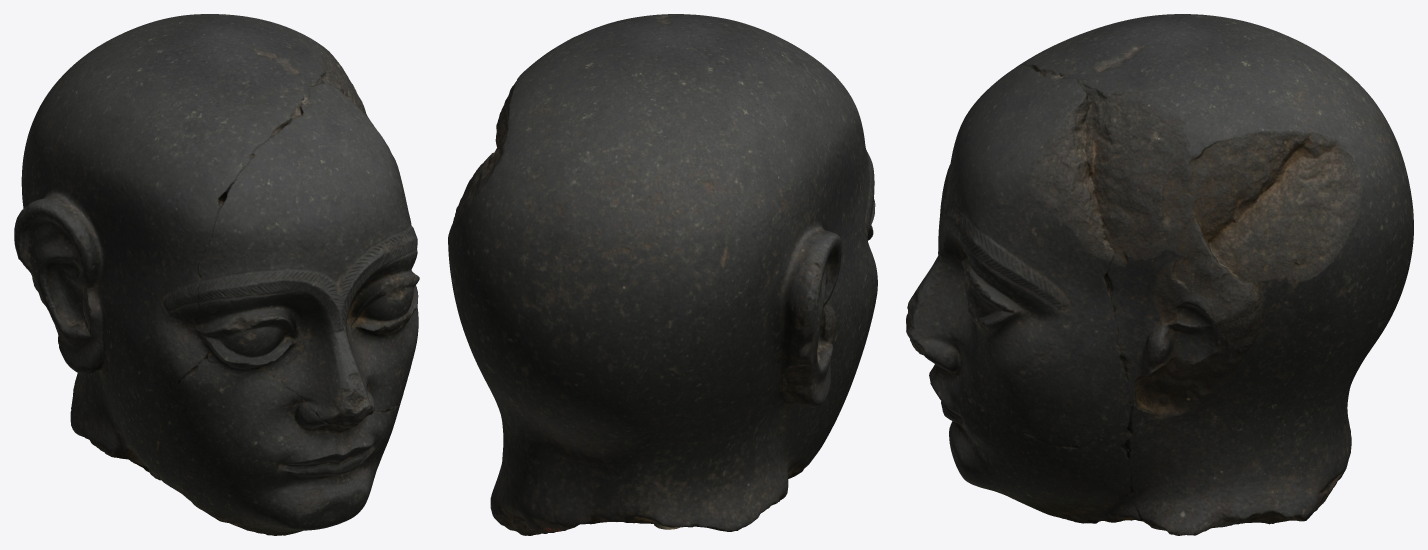
The model's file is head_of_gudea.glb.
The picture shows the model from 3 angles, left to right: view 1: azimuth 30°, elevation 25°; view 2: azimuth 150°, elevation 25°; view 3: azimuth 270°, elevation 25°; orthographic projection. The views are drawn at different scales.
Parts seen in each view (by area): view 1: PG_49_26_HeadofGudea_MASTER_PG_49_26_HeadofGudea_MASTER_PG_4; view 2: PG_49_26_HeadofGudea_MASTER_PG_49_26_HeadofGudea_MASTER_PG_4; view 3: PG_49_26_HeadofGudea_MASTER_PG_49_26_HeadofGudea_MASTER_PG_4.
Boxes of the visible parts, x1,y1,x2,y2 form: PG_49_26_HeadofGudea_MASTER_PG_49_26_HeadofGudea_MASTER_PG_4: [14, 14, 419, 535]; PG_49_26_HeadofGudea_MASTER_PG_49_26_HeadofGudea_MASTER_PG_4: [448, 14, 877, 535]; PG_49_26_HeadofGudea_MASTER_PG_49_26_HeadofGudea_MASTER_PG_4: [906, 14, 1413, 535].
Bounding box in the file's own units: 0.2065 × 0.265 × 0.2618.
1 material, 1 textured.
